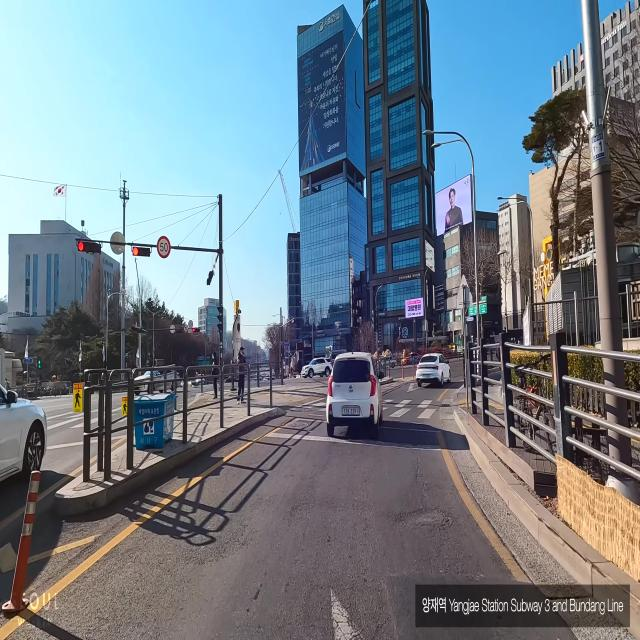Green Light: (77, 240, 101, 255), (132, 246, 152, 258)
Red Light: (132, 247, 140, 257), (78, 242, 84, 252)
